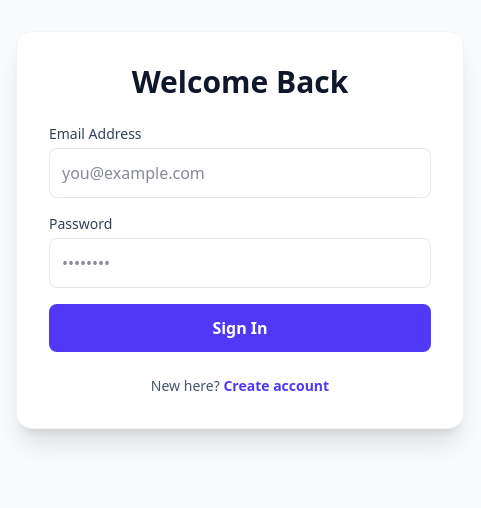
Scenario: Auth flows › navigates between login and signup
The width and height of the screenshot is (481, 508).
Check: the heading "Welcome Back" is shown, box [132,61,348,102]
Click the link "Create account": (276, 386) [223,376,329,395]
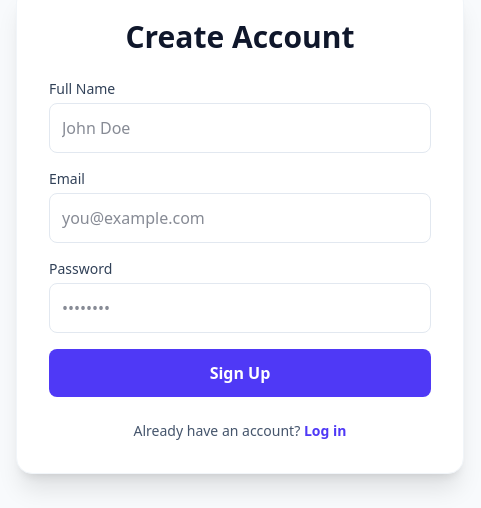
Check: the heading "Create Account" is shown, box [126,16,355,57]
Open "/signup"
Check: the heading "Create Account" is shown, box [126,16,355,57]
Click the link "Log in": (326, 431) [304,421,347,440]
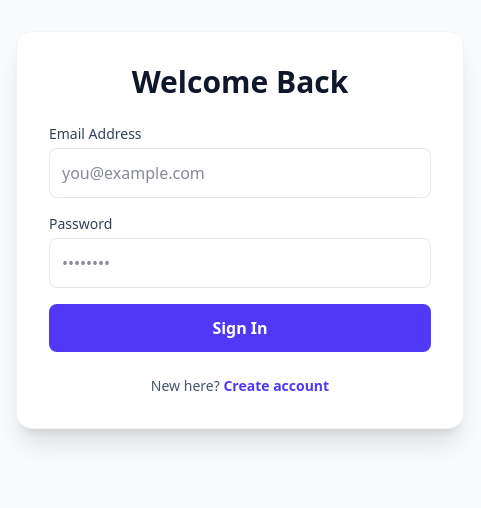
Check: the heading "Welcome Back" is shown, box [132,61,348,102]
